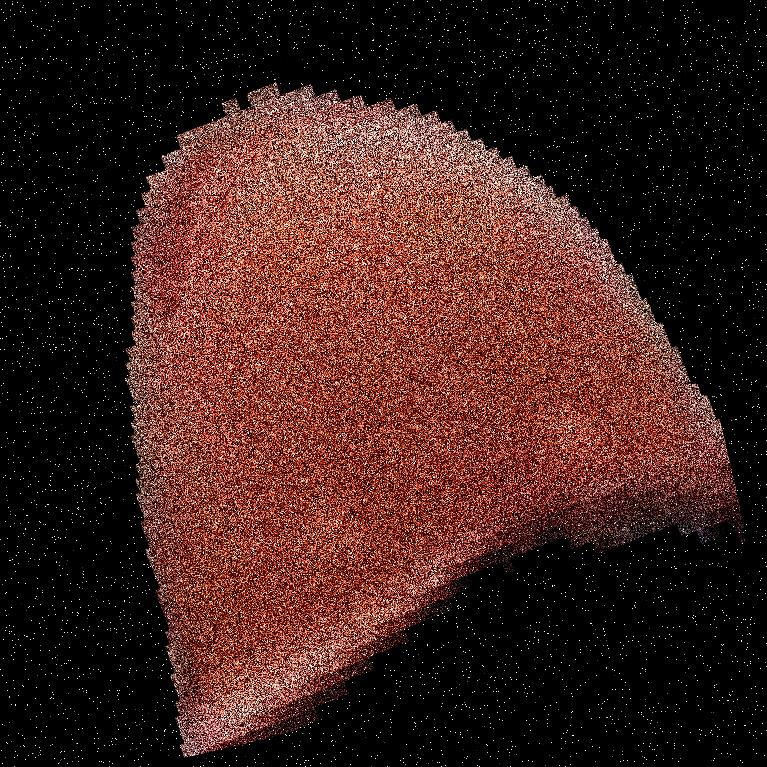Capacete: (208, 0, 610, 766)
